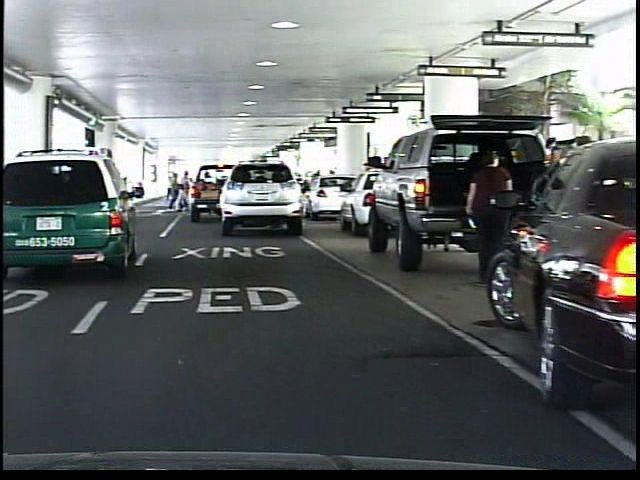person: (455, 149, 515, 281)
